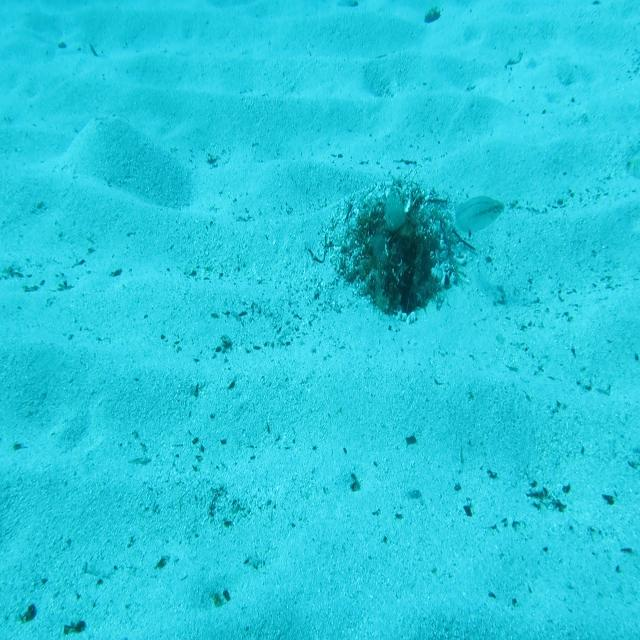NIP_CORE: (372, 164, 430, 233)
female: (449, 180, 509, 247)
nest: (336, 169, 467, 319)
